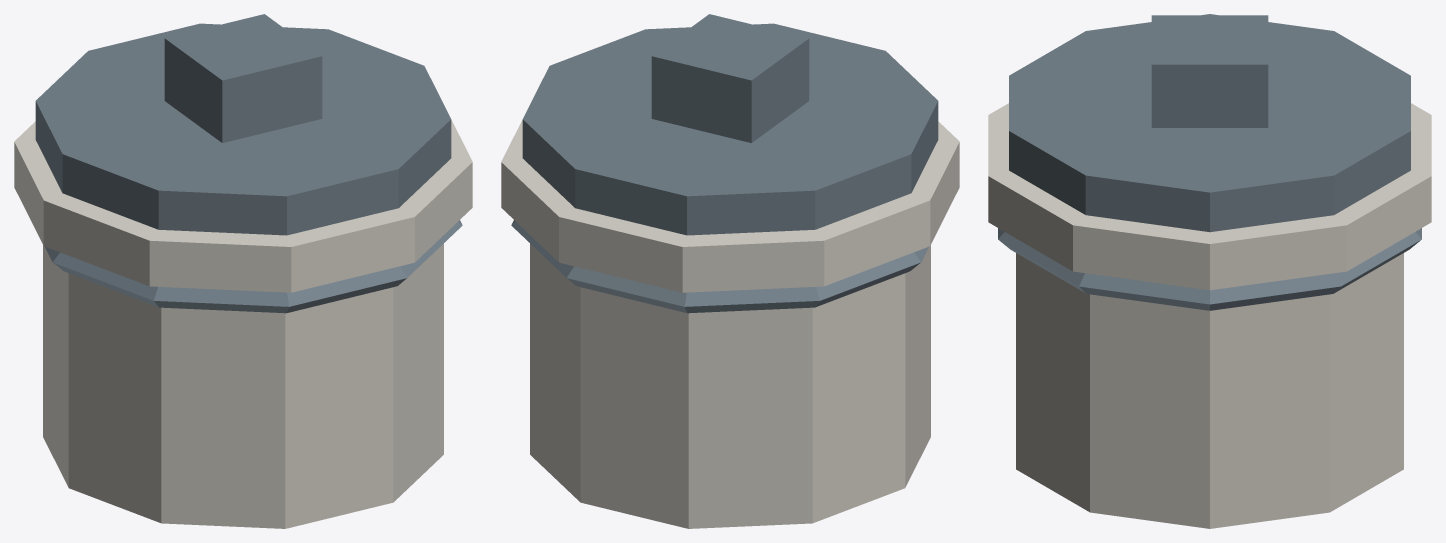
The model's file is b05_sewer_cleanout_access_cap.glb.
The picture shows the model from 3 angles, left to right: view 1: azimuth 30°, elevation 25°; view 2: azimuth 150°, elevation 25°; view 3: azimuth 270°, elevation 25°; orthographic projection.
Parts seen in each view (by area): view 1: b05_sewer_cleanout_access_cap; view 2: b05_sewer_cleanout_access_cap; view 3: b05_sewer_cleanout_access_cap.
Boxes of the visible parts, left/top/right/bottom form: b05_sewer_cleanout_access_cap: left=14, top=14, right=472, bottom=528; b05_sewer_cleanout_access_cap: left=501, top=14, right=959, bottom=528; b05_sewer_cleanout_access_cap: left=988, top=14, right=1431, bottom=528.
Size of the model in its own units: 0.32 by 0.305 by 0.3043.
